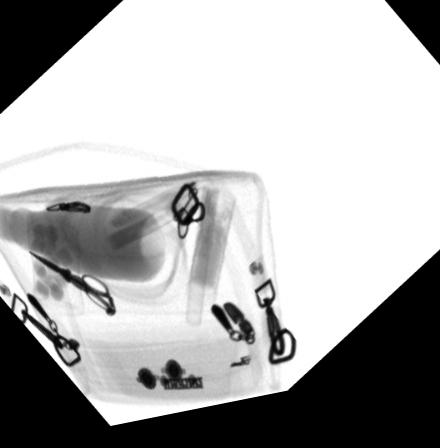Scissors: (28, 250, 115, 317)
